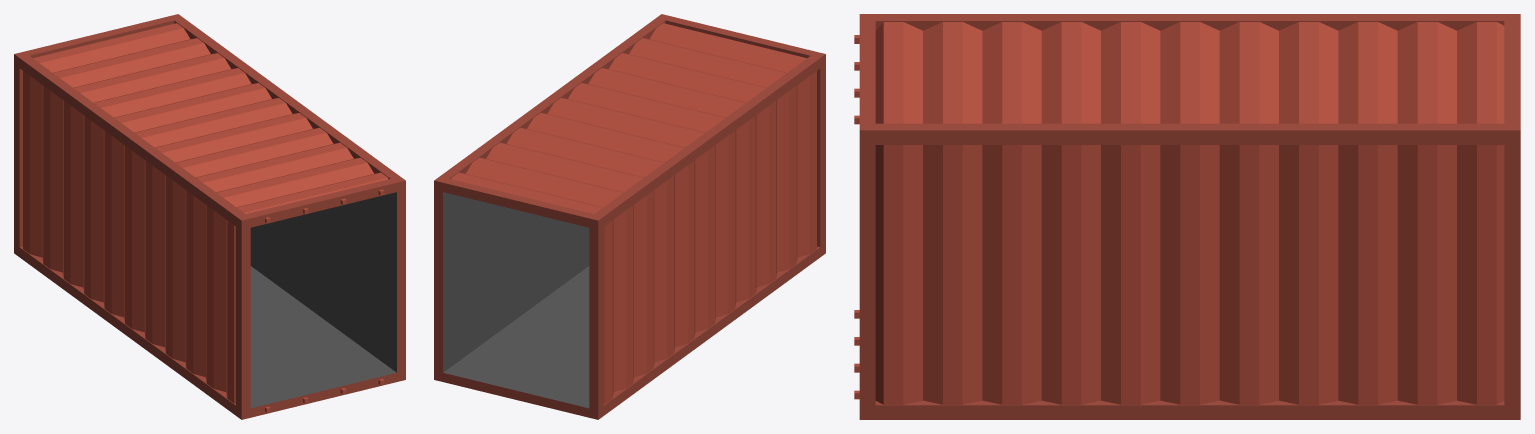
The model's file is SM_Props_ShippingContainer_01.glb.
3 views of the same model, side by side, from view 1: azimuth 30°, elevation 25°; view 2: azimuth 150°, elevation 25°; view 3: azimuth 270°, elevation 25° (orthographic). The views are drawn at different scales.
Parts seen in each view (by area): view 1: SM_Props_ShippingContainer_01; view 2: SM_Props_ShippingContainer_01; view 3: SM_Props_ShippingContainer_01.
Part boxes in pixels (x1=…): SM_Props_ShippingContainer_01: x1=14, y1=14, x2=405, y2=419; SM_Props_ShippingContainer_01: x1=434, y1=14, x2=825, y2=419; SM_Props_ShippingContainer_01: x1=854, y1=14, x2=1520, y2=419.
Size of the model in its own units: 2.5 by 2.9 by 6.05.
Materials: 1 (1 with a texture image).
